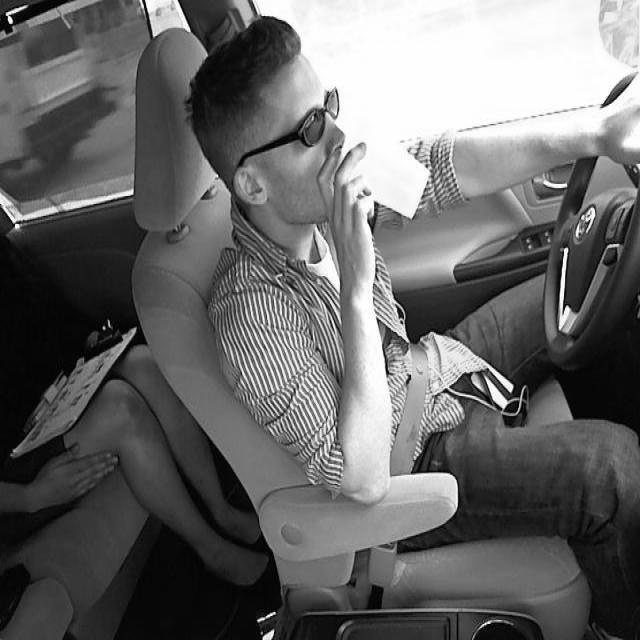Drinking: (346, 112, 430, 219)
